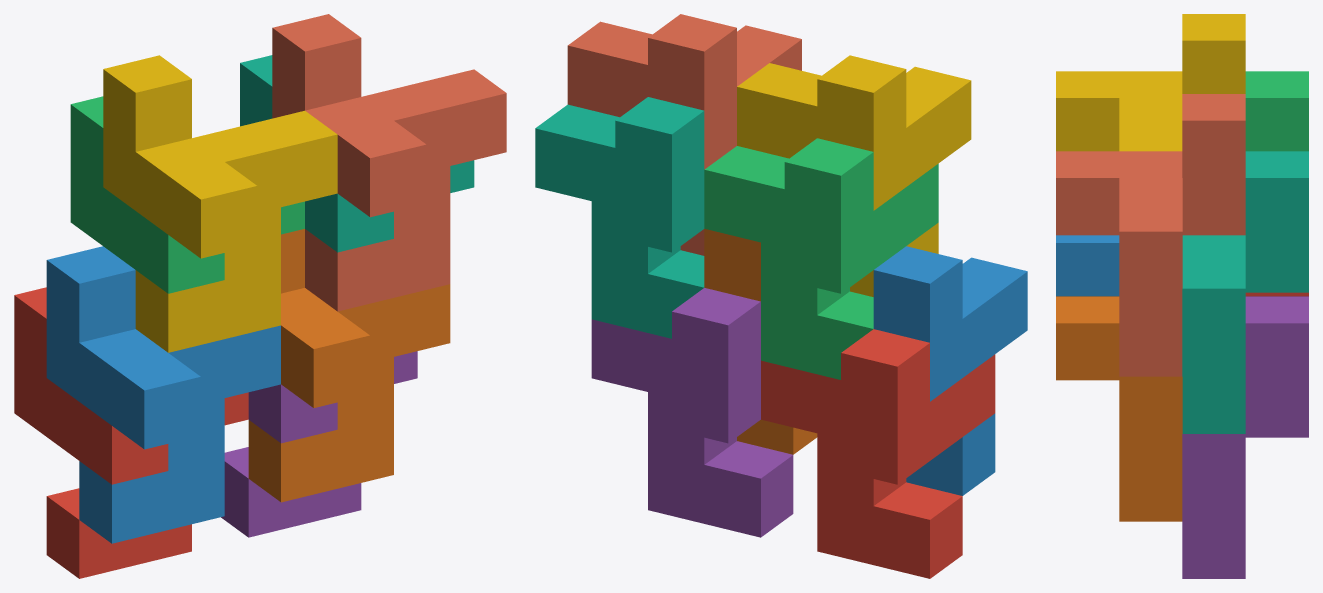
File: tiling.obj
3 renders of one model, left to right at view 1: azimuth 30°, elevation 25°; view 2: azimuth 150°, elevation 25°; view 3: azimuth 270°, elevation 25°, orthographic. The views are drawn at different scales.
Visible parts, largest first — view 1: copy_1_domain_4, copy_1_domain_8, copy_1_domain_2, copy_1_domain_6, copy_1_domain_1, copy_1_domain_3, copy_1_domain_5, copy_1_domain_7; view 2: copy_1_domain_1, copy_1_domain_3, copy_1_domain_5, copy_1_domain_7, copy_1_domain_4, copy_1_domain_2, copy_1_domain_8, copy_1_domain_6; view 3: copy_1_domain_8, copy_1_domain_7, copy_1_domain_5, copy_1_domain_4, copy_1_domain_6, copy_1_domain_3, copy_1_domain_2.
Boxes of the visible parts, x1,y1,x2,y2 form: copy_1_domain_4: (103, 55, 337, 352); copy_1_domain_8: (272, 14, 506, 311); copy_1_domain_2: (46, 246, 280, 543); copy_1_domain_6: (248, 229, 450, 502); copy_1_domain_1: (14, 287, 248, 578); copy_1_domain_3: (70, 96, 304, 293); copy_1_domain_5: (221, 351, 417, 537); copy_1_domain_7: (240, 55, 474, 252); copy_1_domain_1: (761, 329, 995, 578); copy_1_domain_3: (704, 138, 938, 379); copy_1_domain_5: (591, 288, 793, 537); copy_1_domain_7: (535, 97, 704, 338); copy_1_domain_4: (737, 55, 971, 296); copy_1_domain_2: (873, 246, 1027, 495); copy_1_domain_8: (567, 14, 801, 255); copy_1_domain_6: (704, 228, 817, 454); copy_1_domain_8: (1056, 94, 1245, 376); copy_1_domain_7: (1182, 151, 1308, 433); copy_1_domain_5: (1182, 296, 1308, 578); copy_1_domain_4: (1056, 14, 1245, 151); copy_1_domain_6: (1056, 296, 1182, 521); copy_1_domain_3: (1245, 71, 1308, 151); copy_1_domain_2: (1056, 235, 1119, 296).
Bounding box in the file's own units: 7 × 8 × 4.
